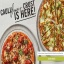pizza: (38, 1, 64, 52), (1, 32, 38, 64)
